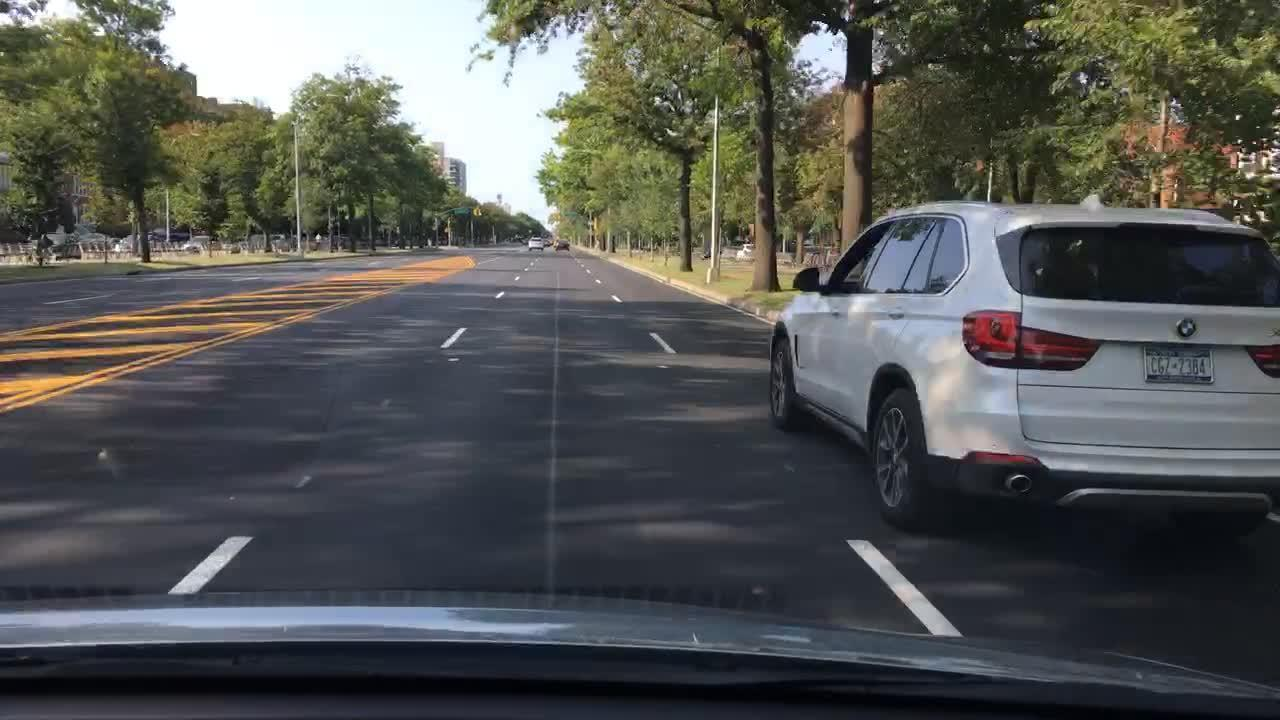bmw: (1175, 317, 1197, 341)
